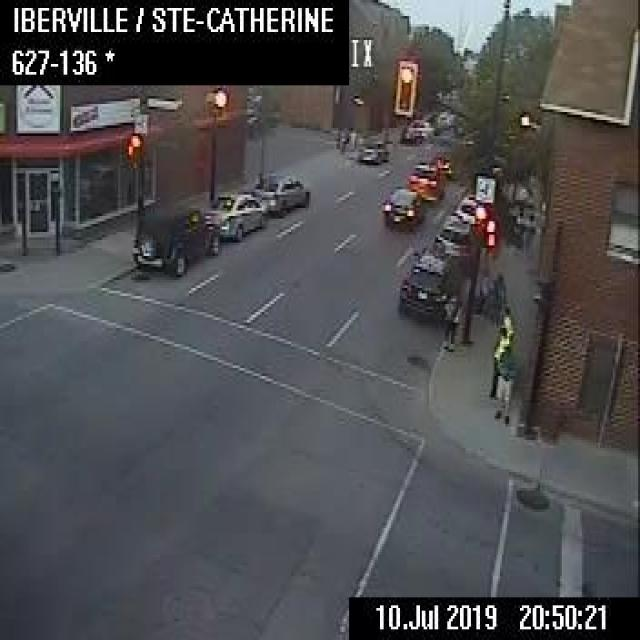pedestrian: (492, 343, 514, 422), (488, 326, 509, 396), (442, 286, 459, 350), (490, 271, 505, 326), (522, 210, 535, 256), (477, 270, 489, 316), (499, 304, 511, 331), (513, 204, 524, 233), (334, 124, 342, 163), (338, 128, 346, 167), (346, 124, 354, 163)
vehicle: (130, 204, 218, 274), (397, 248, 454, 316), (203, 189, 267, 238), (251, 172, 309, 214), (432, 219, 473, 262), (406, 158, 444, 200), (381, 184, 420, 224), (446, 191, 476, 222), (402, 117, 433, 141), (356, 138, 386, 162), (434, 148, 456, 174), (434, 106, 452, 126)
